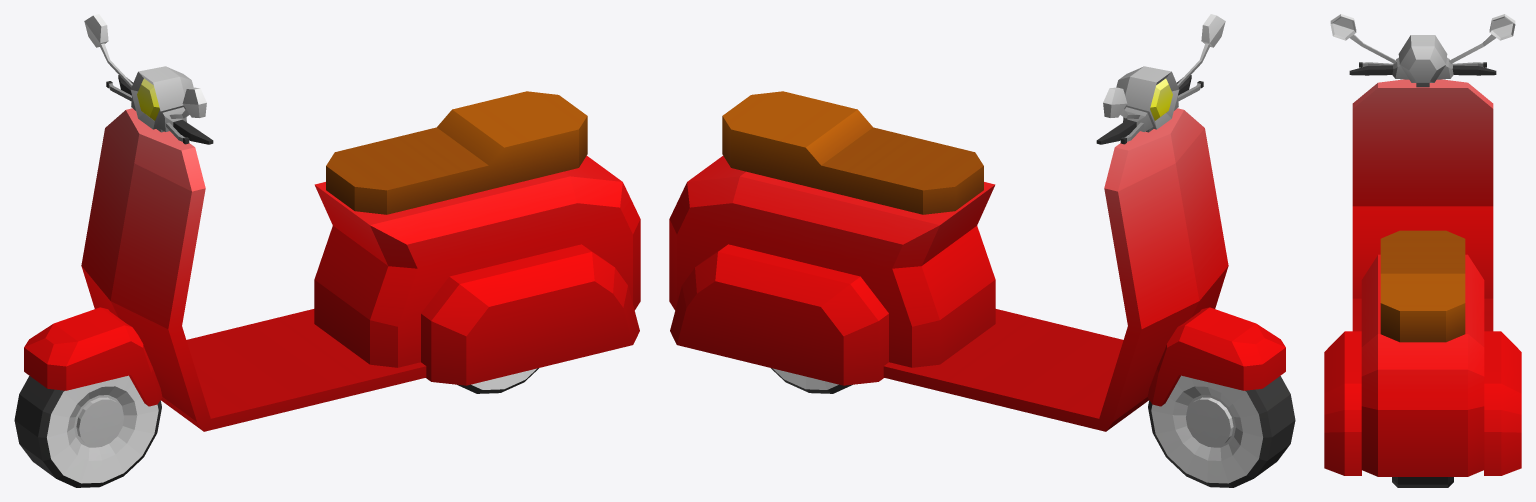
File: scooter.glb
3 views of the same model, side by side, from view 1: azimuth 30°, elevation 25°; view 2: azimuth 150°, elevation 25°; view 3: azimuth 270°, elevation 25° (orthographic). The views are drawn at different scales.
Parts seen in each view (by area): view 1: G_Scooter_MAT_Base_0, G_Scooter_FWheel_MAT_Base_0, G_Scooter_BWheel_MAT_Base_0; view 2: G_Scooter_MAT_Base_0, G_Scooter_FWheel_MAT_Base_0, G_Scooter_BWheel_MAT_Base_0; view 3: G_Scooter_MAT_Base_0, G_Scooter_BWheel_MAT_Base_0.
Boxes of the visible parts, x1,y1,x2,y2 form: G_Scooter_MAT_Base_0: (24,14,640,431); G_Scooter_FWheel_MAT_Base_0: (14,375,161,487); G_Scooter_BWheel_MAT_Base_0: (457,368,538,393); G_Scooter_MAT_Base_0: (669,14,1285,431); G_Scooter_FWheel_MAT_Base_0: (1148,375,1295,487); G_Scooter_BWheel_MAT_Base_0: (771,368,852,393); G_Scooter_MAT_Base_0: (1324,14,1521,476); G_Scooter_BWheel_MAT_Base_0: (1392,477,1453,487).
Size of the model in its own units: 0.7277 by 0.489 by 0.2622.
Materials: 1 (1 with a texture image).
